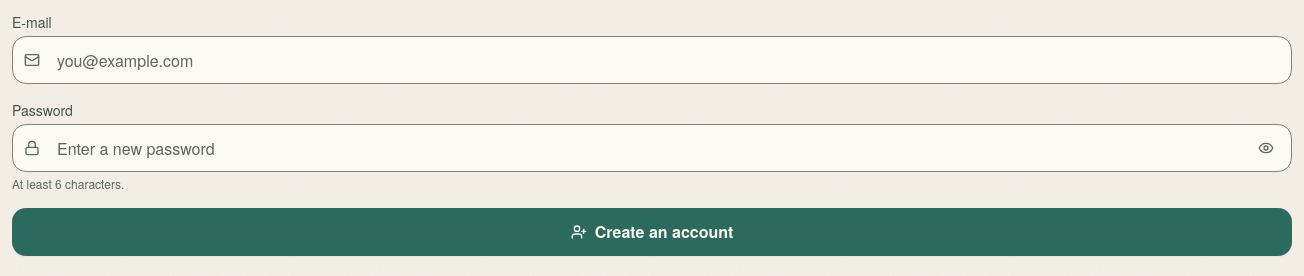
Test case: SignUpForm › focuses the first invalid field in form order and never goes pending
Type "ala@example.com" into the field with id "email".
click(652, 60); type("ala@example.com")  # box [12,36,1292,84]
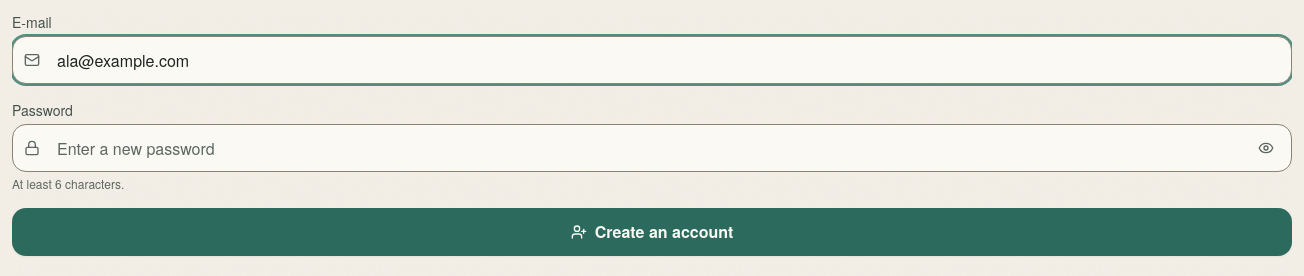
Type "abc" into the password field labelled "Password".
click(652, 148); type("abc")  # box [12,124,1292,172]
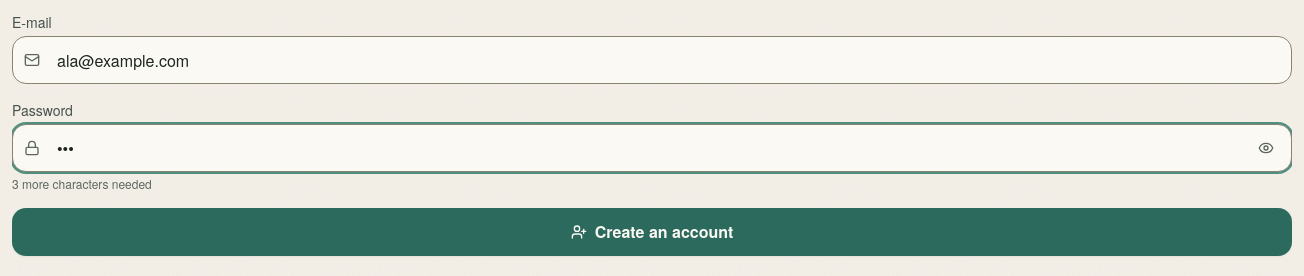
Click the button "Create an account".
click(652, 232)  # box [12,208,1292,256]
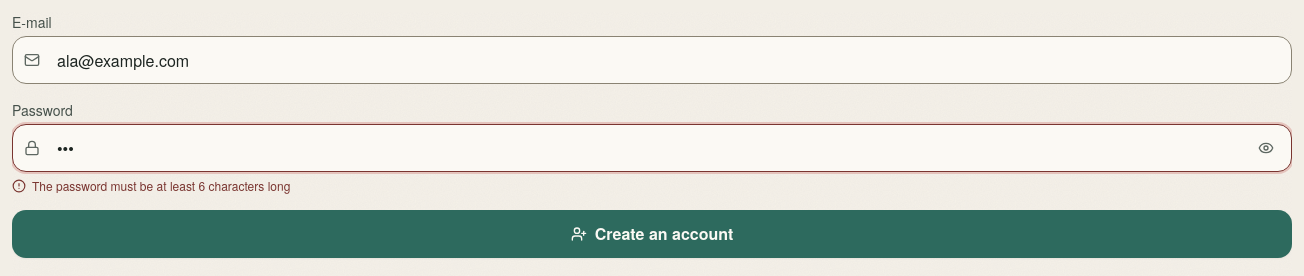
Expected: the text "The password must be at least 6 characters long" is shown, [12,177,290,194]
